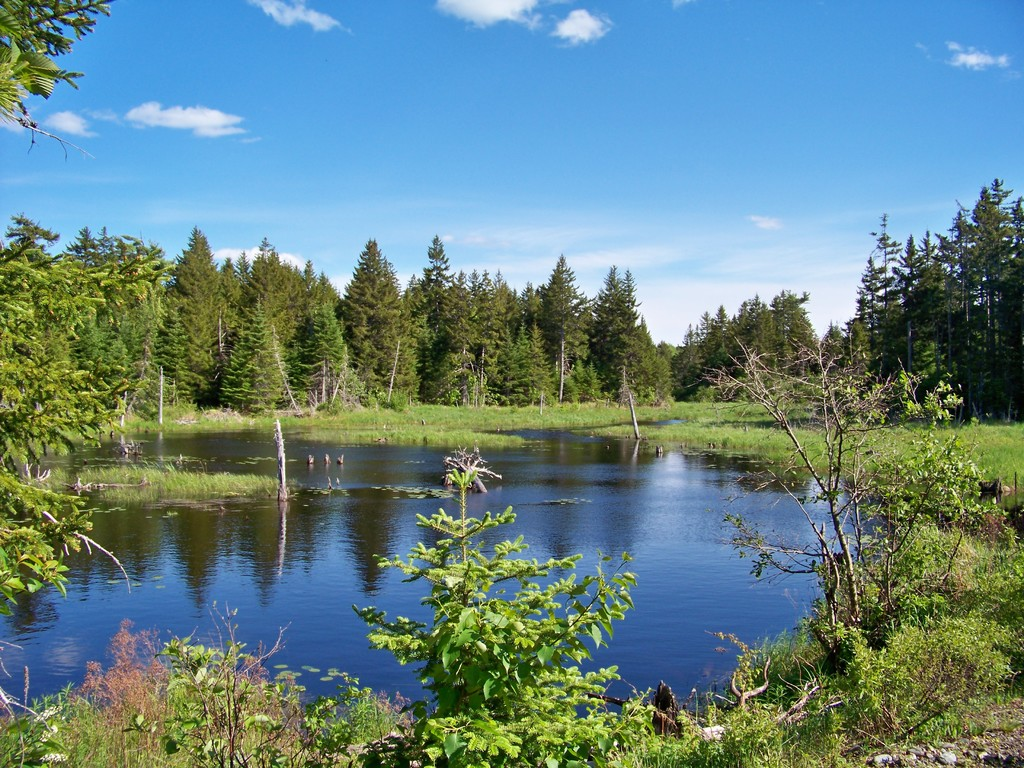Tree: (0, 174, 1023, 605), (349, 472, 672, 739), (0, 0, 112, 161)
